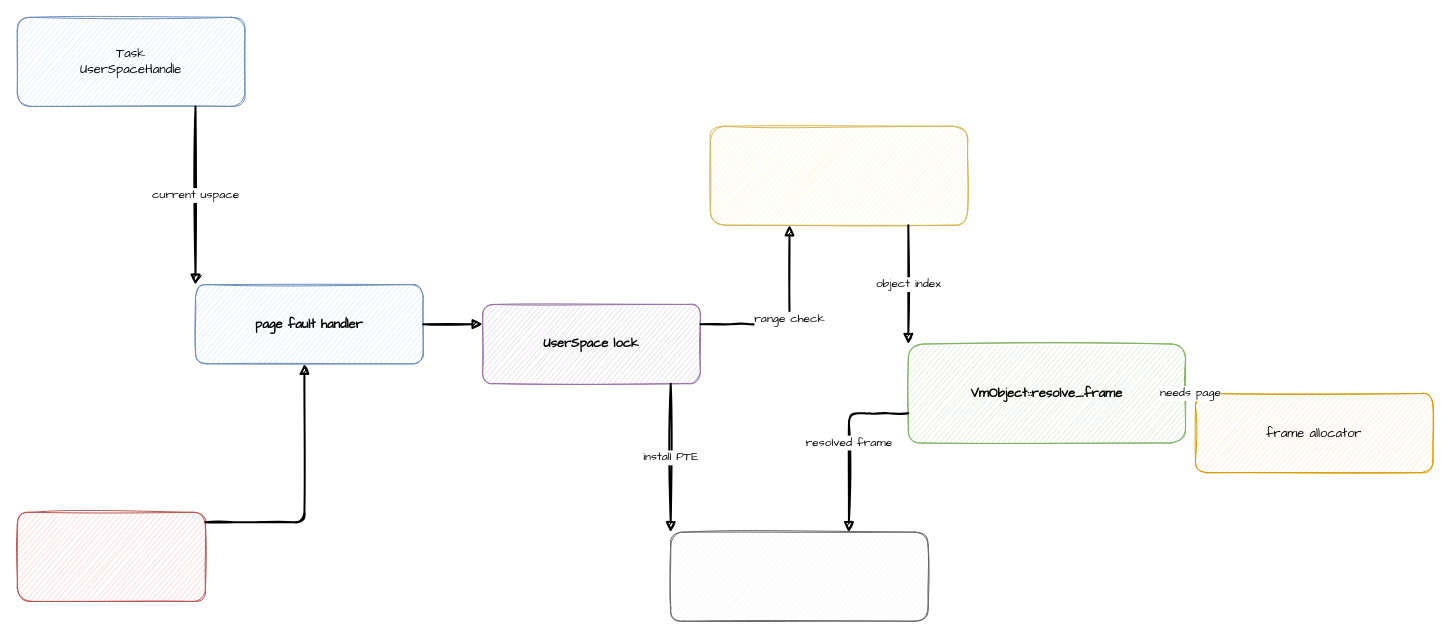
Image size: 1450x639. Some labels were removed from this diagram. The box of each missing label's shape, as (x1, y1, x2, y2) in pixels:
arch trap fault info: (16, 511, 205, 601)
page table TLB shootdown: (670, 531, 928, 621)
VmArea prot + object offset: (709, 125, 968, 225)
